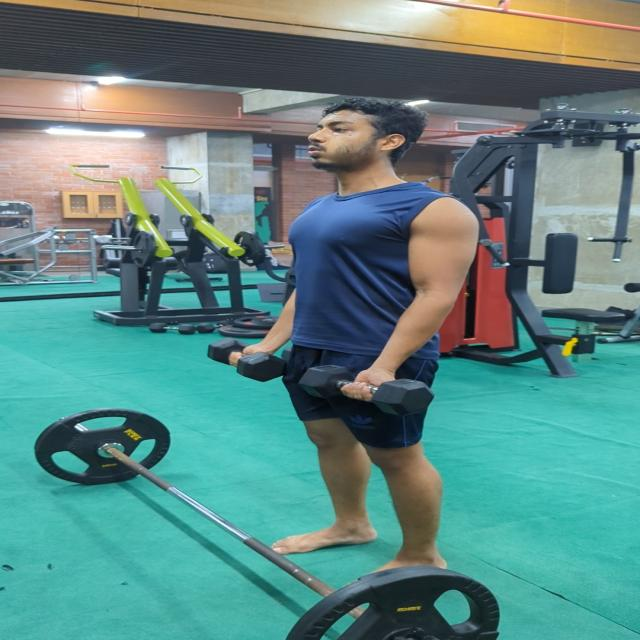Normal_DumbbellBicepCurls: (218, 98, 478, 576)
